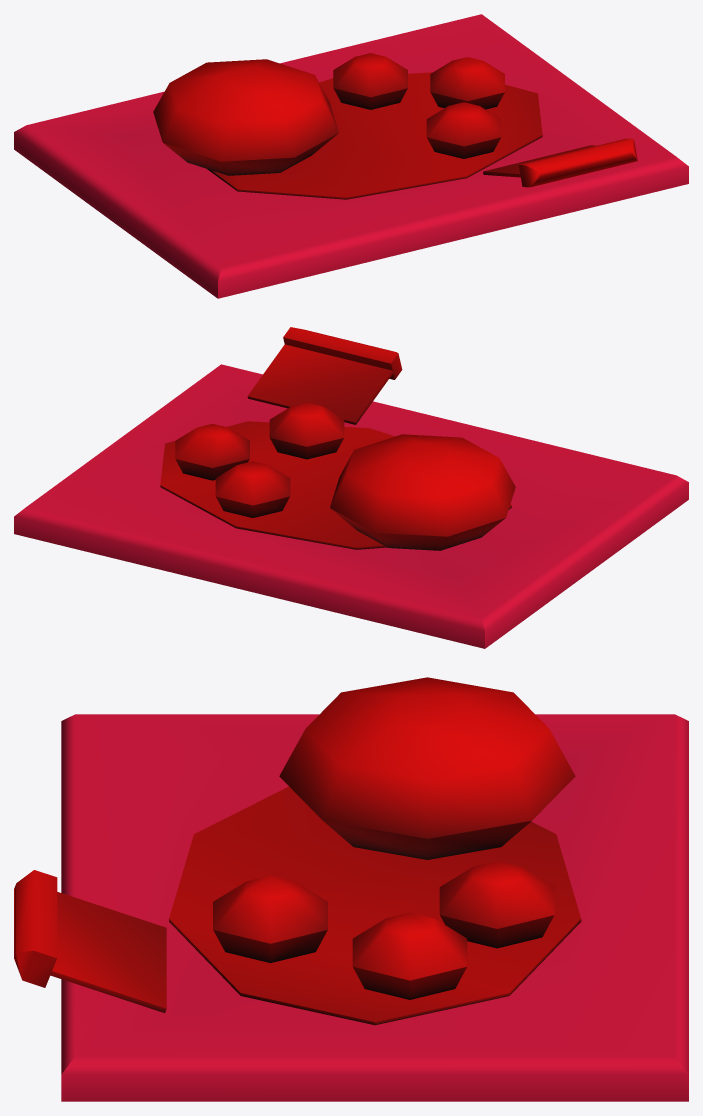
Rendered from CI_Bakery_Dough_Board.glb.
3 views of the same model, one above another, from view 1: azimuth 30°, elevation 25°; view 2: azimuth 150°, elevation 25°; view 3: azimuth 270°, elevation 25° (orthographic). The views are drawn at different scales.
Parts seen in each view (by area): view 1: CI_Bakery_Dough_Board; view 2: CI_Bakery_Dough_Board; view 3: CI_Bakery_Dough_Board.
Boxes of the visible parts, x1,y1,x2,y2 form: CI_Bakery_Dough_Board: [14, 14, 688, 298]; CI_Bakery_Dough_Board: [14, 327, 688, 648]; CI_Bakery_Dough_Board: [14, 677, 688, 1101].
Bounding box in the file's own units: 0.48 × 0.095 × 0.3871.
